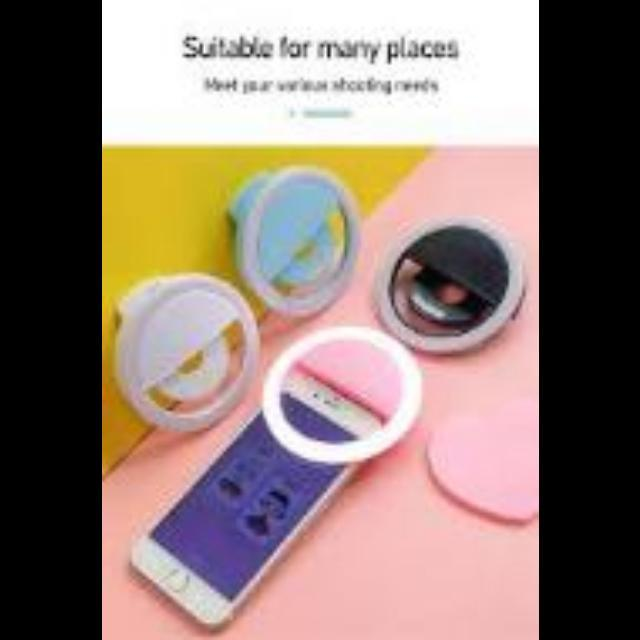Phone: (130, 368, 388, 630)
